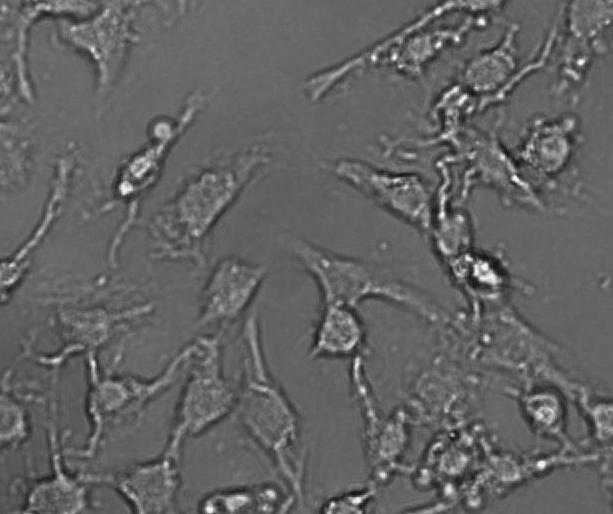Dead: (111, 94, 180, 204), (441, 242, 515, 309), (516, 382, 573, 446)
